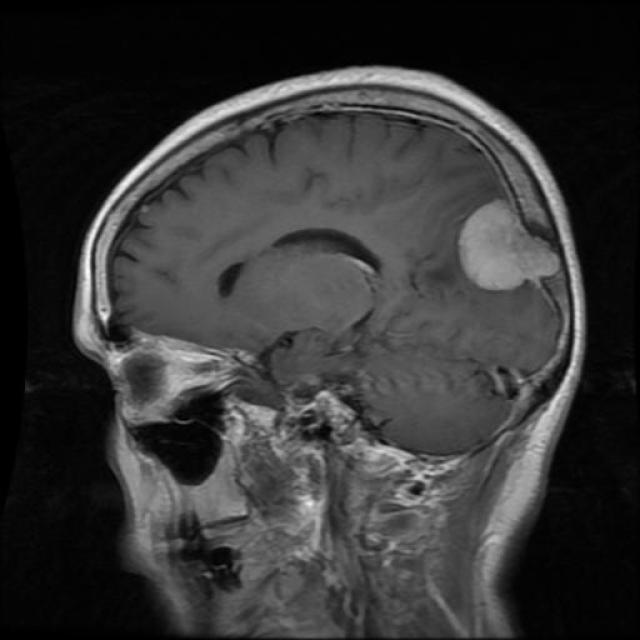Meningioma: (457, 198, 565, 295)
